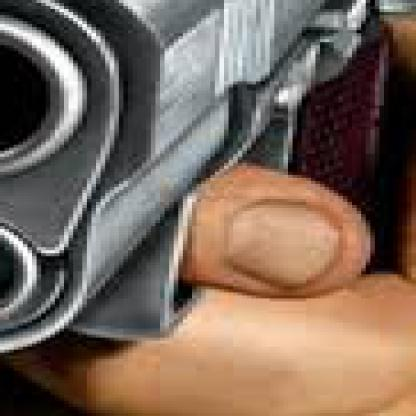gun: (0, 0, 412, 402)
